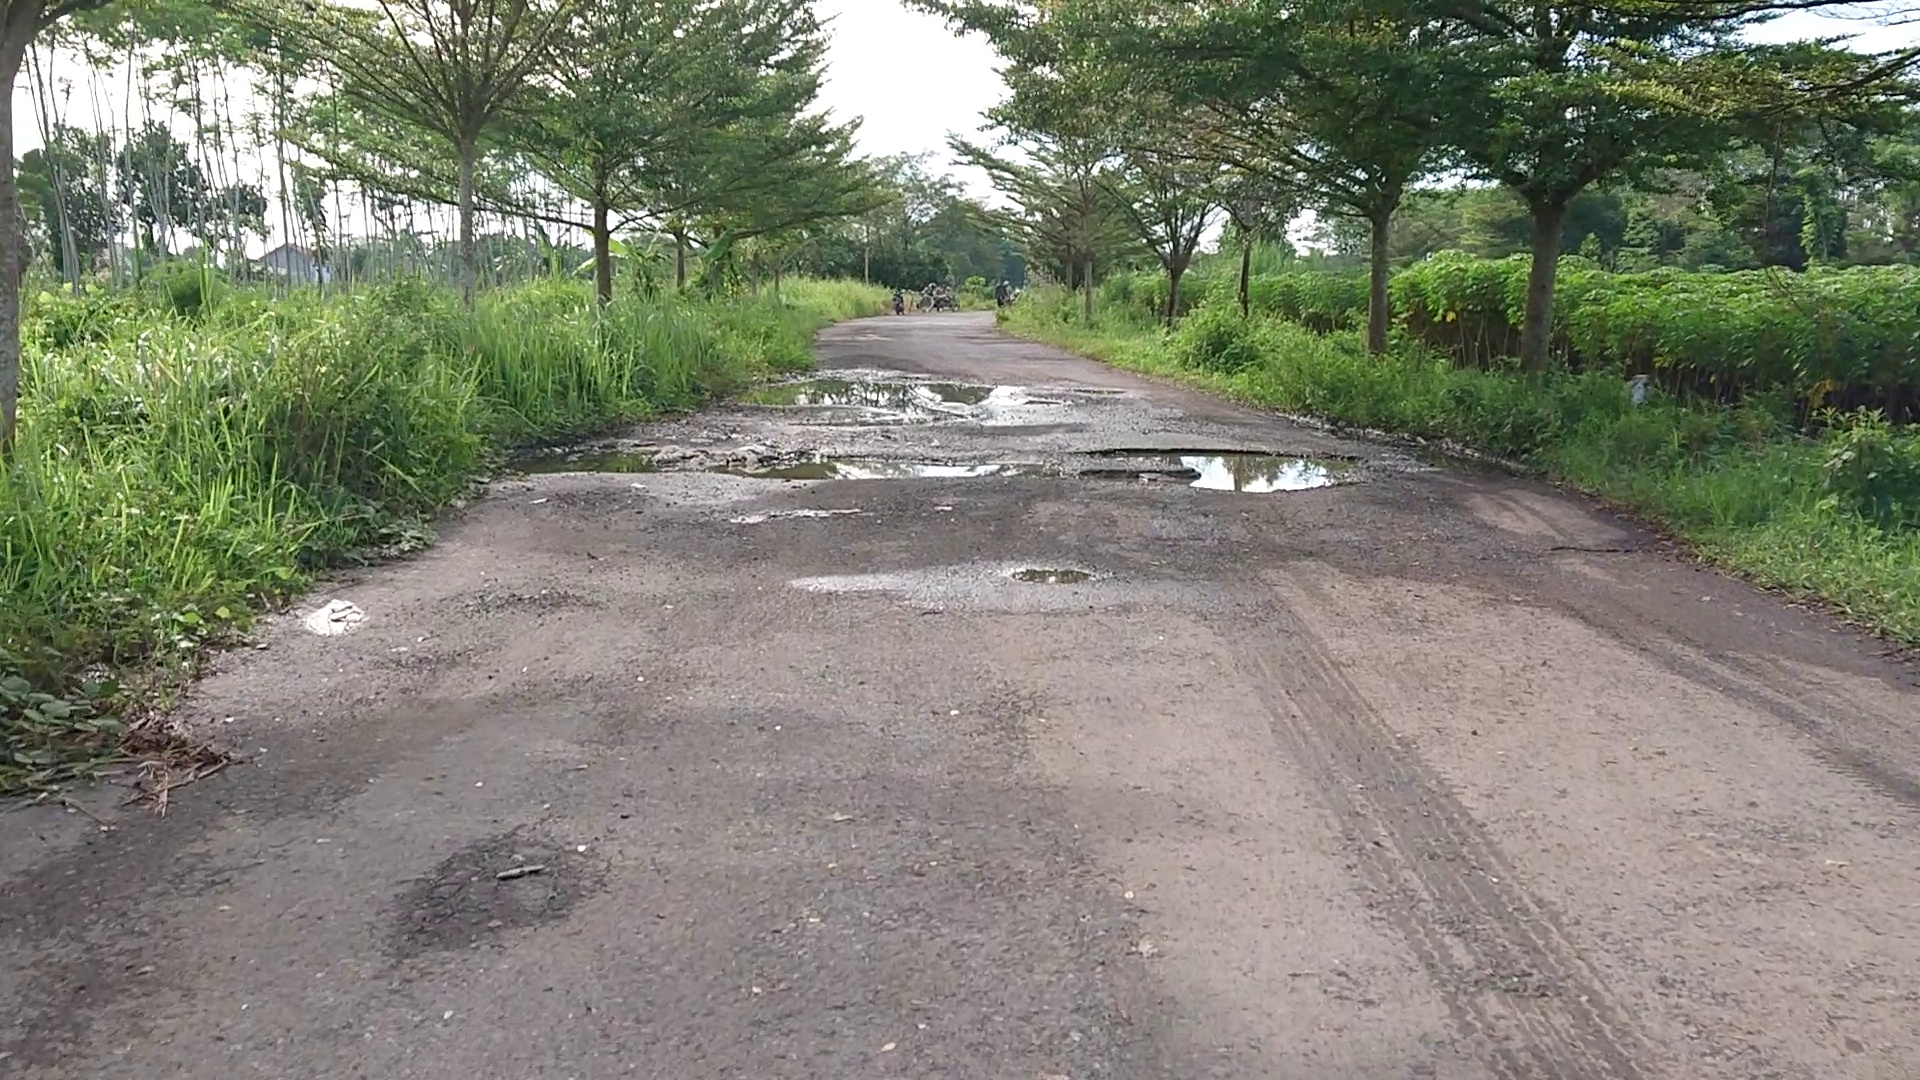Berlubang: (762, 375, 1095, 421), (1092, 446, 1399, 491), (720, 448, 1054, 483), (518, 446, 698, 477)
